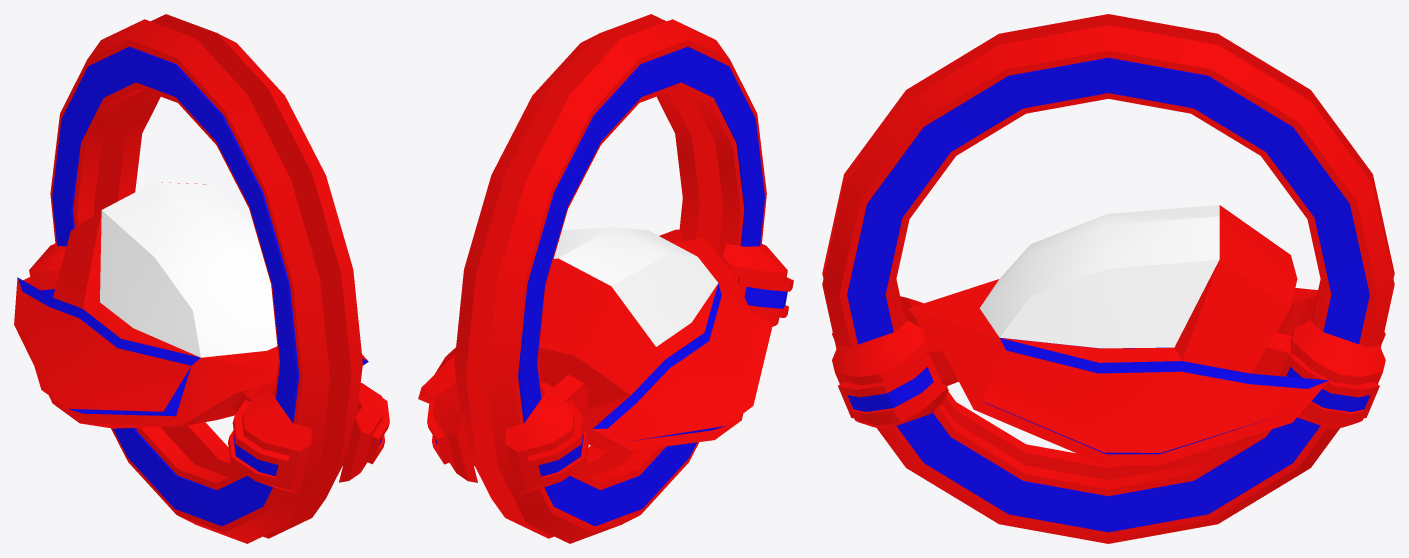
The model's file is HexCycle.gltf.
3 renders of one model, left to right at view 1: azimuth 30°, elevation 25°; view 2: azimuth 150°, elevation 25°; view 3: azimuth 270°, elevation 25°, orthographic. The views are drawn at different scales.
Visible parts, largest first — view 1: Plane.002, Plane, Plane.001; view 2: Plane.002, Plane, Plane.001; view 3: Plane.002, Plane, Plane.001.
Boxes of the visible parts, x1,y1,x2,y2 form: Plane.002: (50, 14, 362, 543); Plane: (14, 182, 389, 493); Plane.001: (100, 182, 277, 357); Plane.002: (454, 14, 766, 543); Plane: (418, 229, 793, 493); Plane.001: (553, 227, 717, 346); Plane.002: (822, 14, 1394, 543); Plane: (832, 205, 1385, 464); Plane.001: (979, 205, 1219, 348).
Bounding box in the file's own units: 10.01 × 16.52 × 16.52.
1 material, 1 textured.
